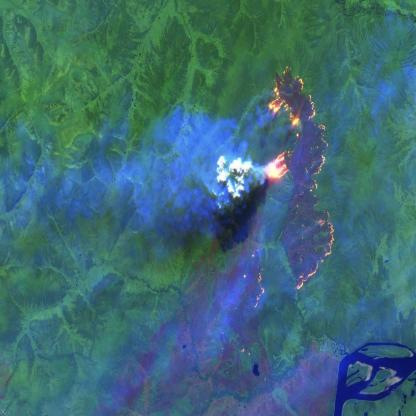fire: (245, 52, 340, 316)
